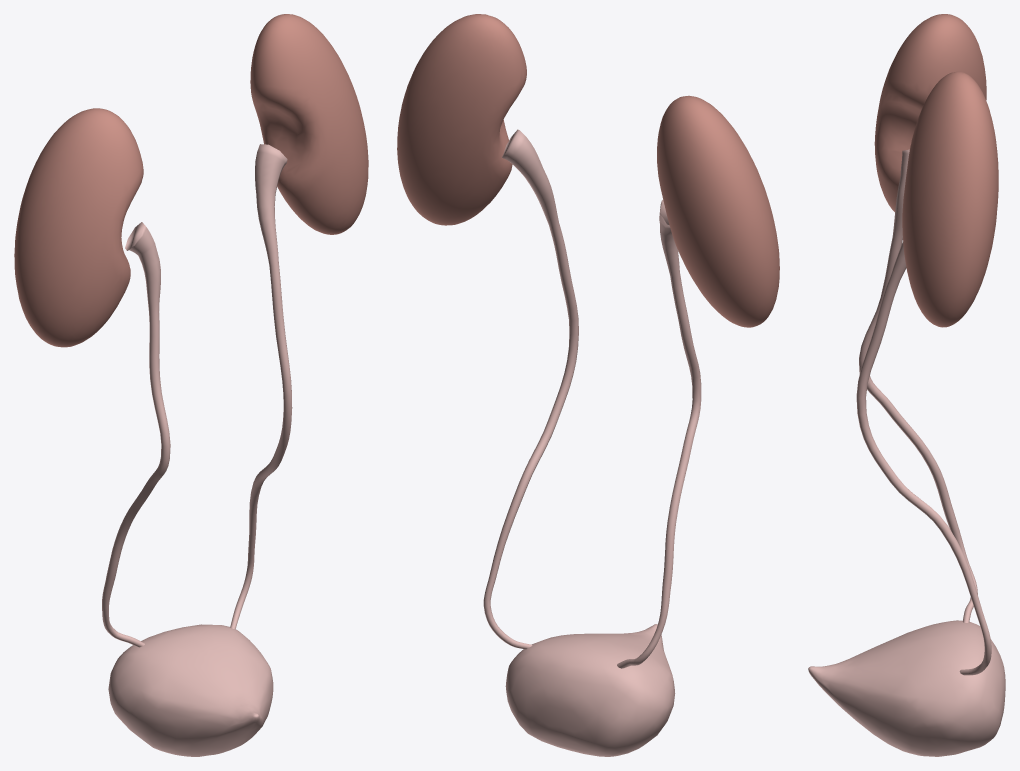
File: urinary.glb
3 views of the same model, side by side, from view 1: azimuth 30°, elevation 25°; view 2: azimuth 150°, elevation 25°; view 3: azimuth 270°, elevation 25° (orthographic). The views are drawn at different scales.
Visible parts, largest first — view 1: kidney-right, kidney-left, urinary-bladder, ureters; view 2: kidney-left, kidney-right, urinary-bladder, ureters; view 3: kidney-left, urinary-bladder, kidney-right, ureters.
Part boxes in pixels (<box>): kidney-right: <box>14,108,143,347</box>; kidney-left: <box>250,14,368,234</box>; urinary-bladder: <box>108,624,273,756</box>; ureters: <box>102,144,292,647</box>; kidney-left: <box>397,14,526,225</box>; kidney-right: <box>657,95,779,327</box>; urinary-bladder: <box>505,624,675,756</box>; ureters: <box>483,129,701,668</box>; kidney-left: <box>902,71,998,327</box>; urinary-bladder: <box>808,620,1005,756</box>; kidney-right: <box>874,14,986,211</box>; ureters: <box>856,149,991,675</box>.
Bounding box in the file's own units: 0.178 × 0.3359 × 0.0833.
